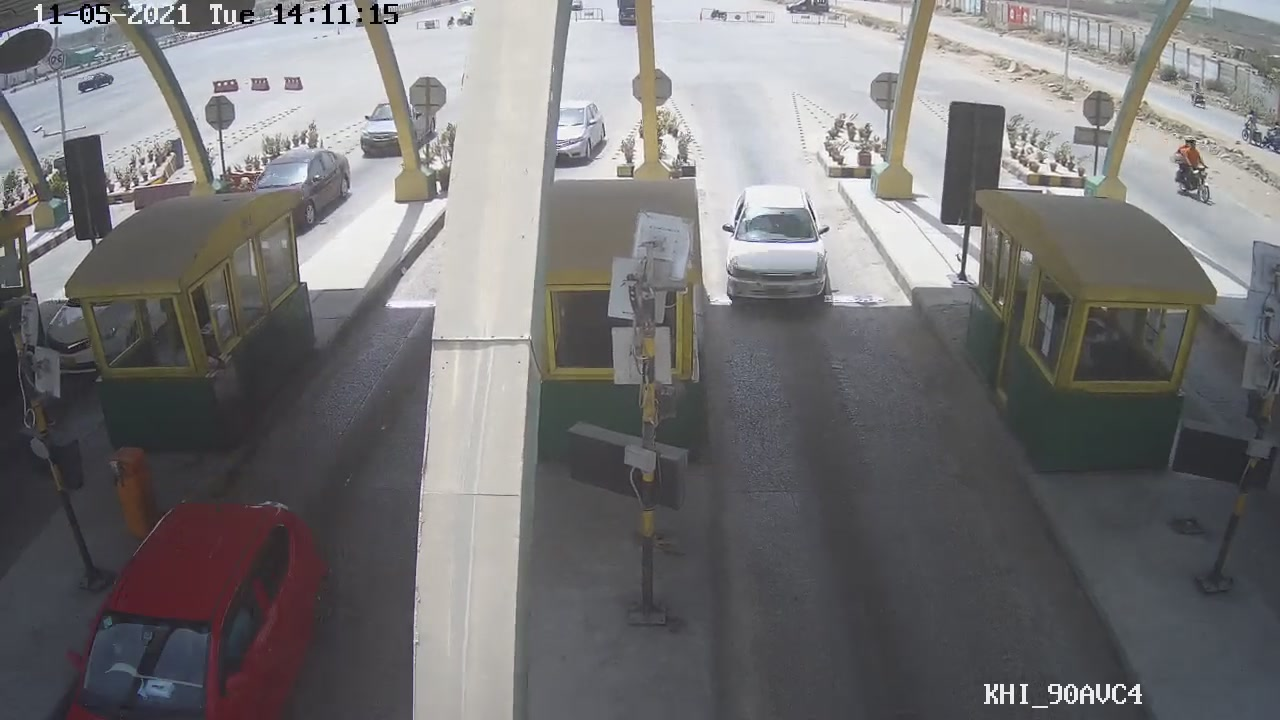F1: (710, 182, 845, 313)
